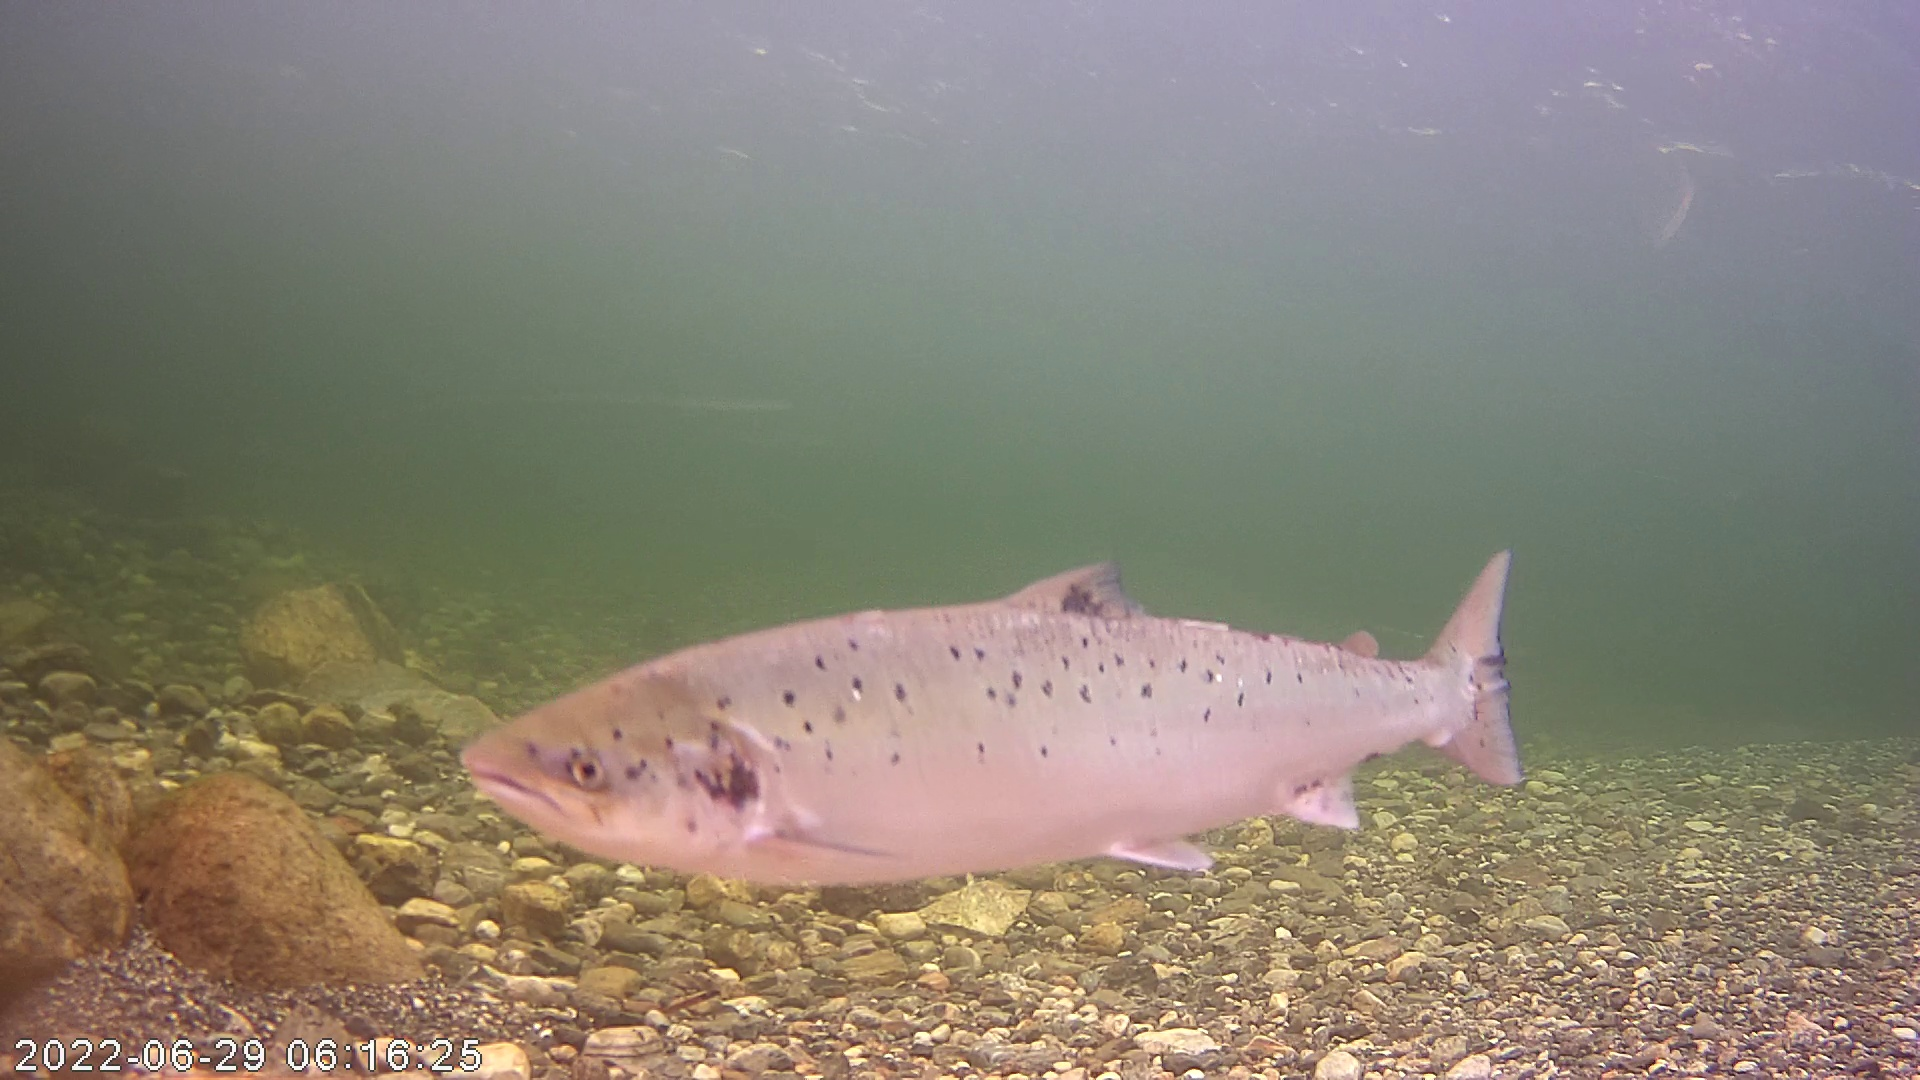salmon: (448, 458, 1515, 884)
